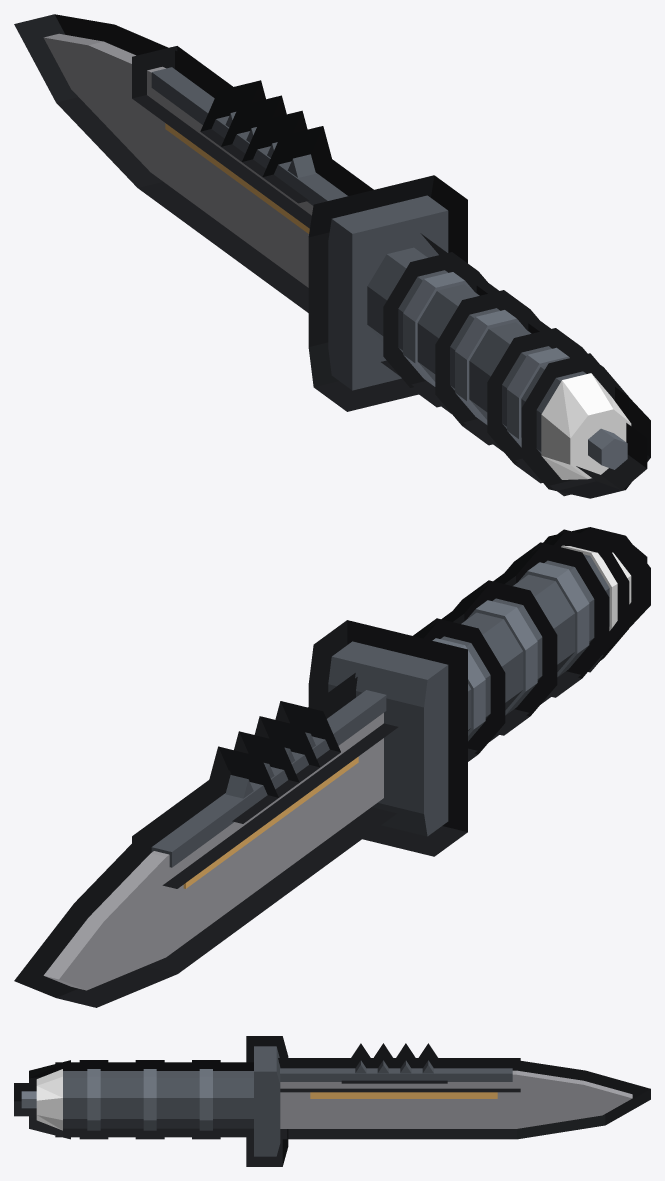
The model's file is KNIFE.gltf.
The picture shows the model from 3 angles, top to bottom: view 1: azimuth 30°, elevation 25°; view 2: azimuth 150°, elevation 25°; view 3: azimuth 270°, elevation 25°; orthographic projection. The views are drawn at different scales.
Parts seen in each view (by area): view 1: KNIFE; view 2: KNIFE; view 3: KNIFE.
Boxes of the visible parts, x1,y1,x2,y2 form: KNIFE: (14, 14, 650, 498); KNIFE: (14, 527, 650, 1007); KNIFE: (14, 1036, 650, 1166).
Size of the model in its own units: 0.0484 by 0.0723 by 0.408.
